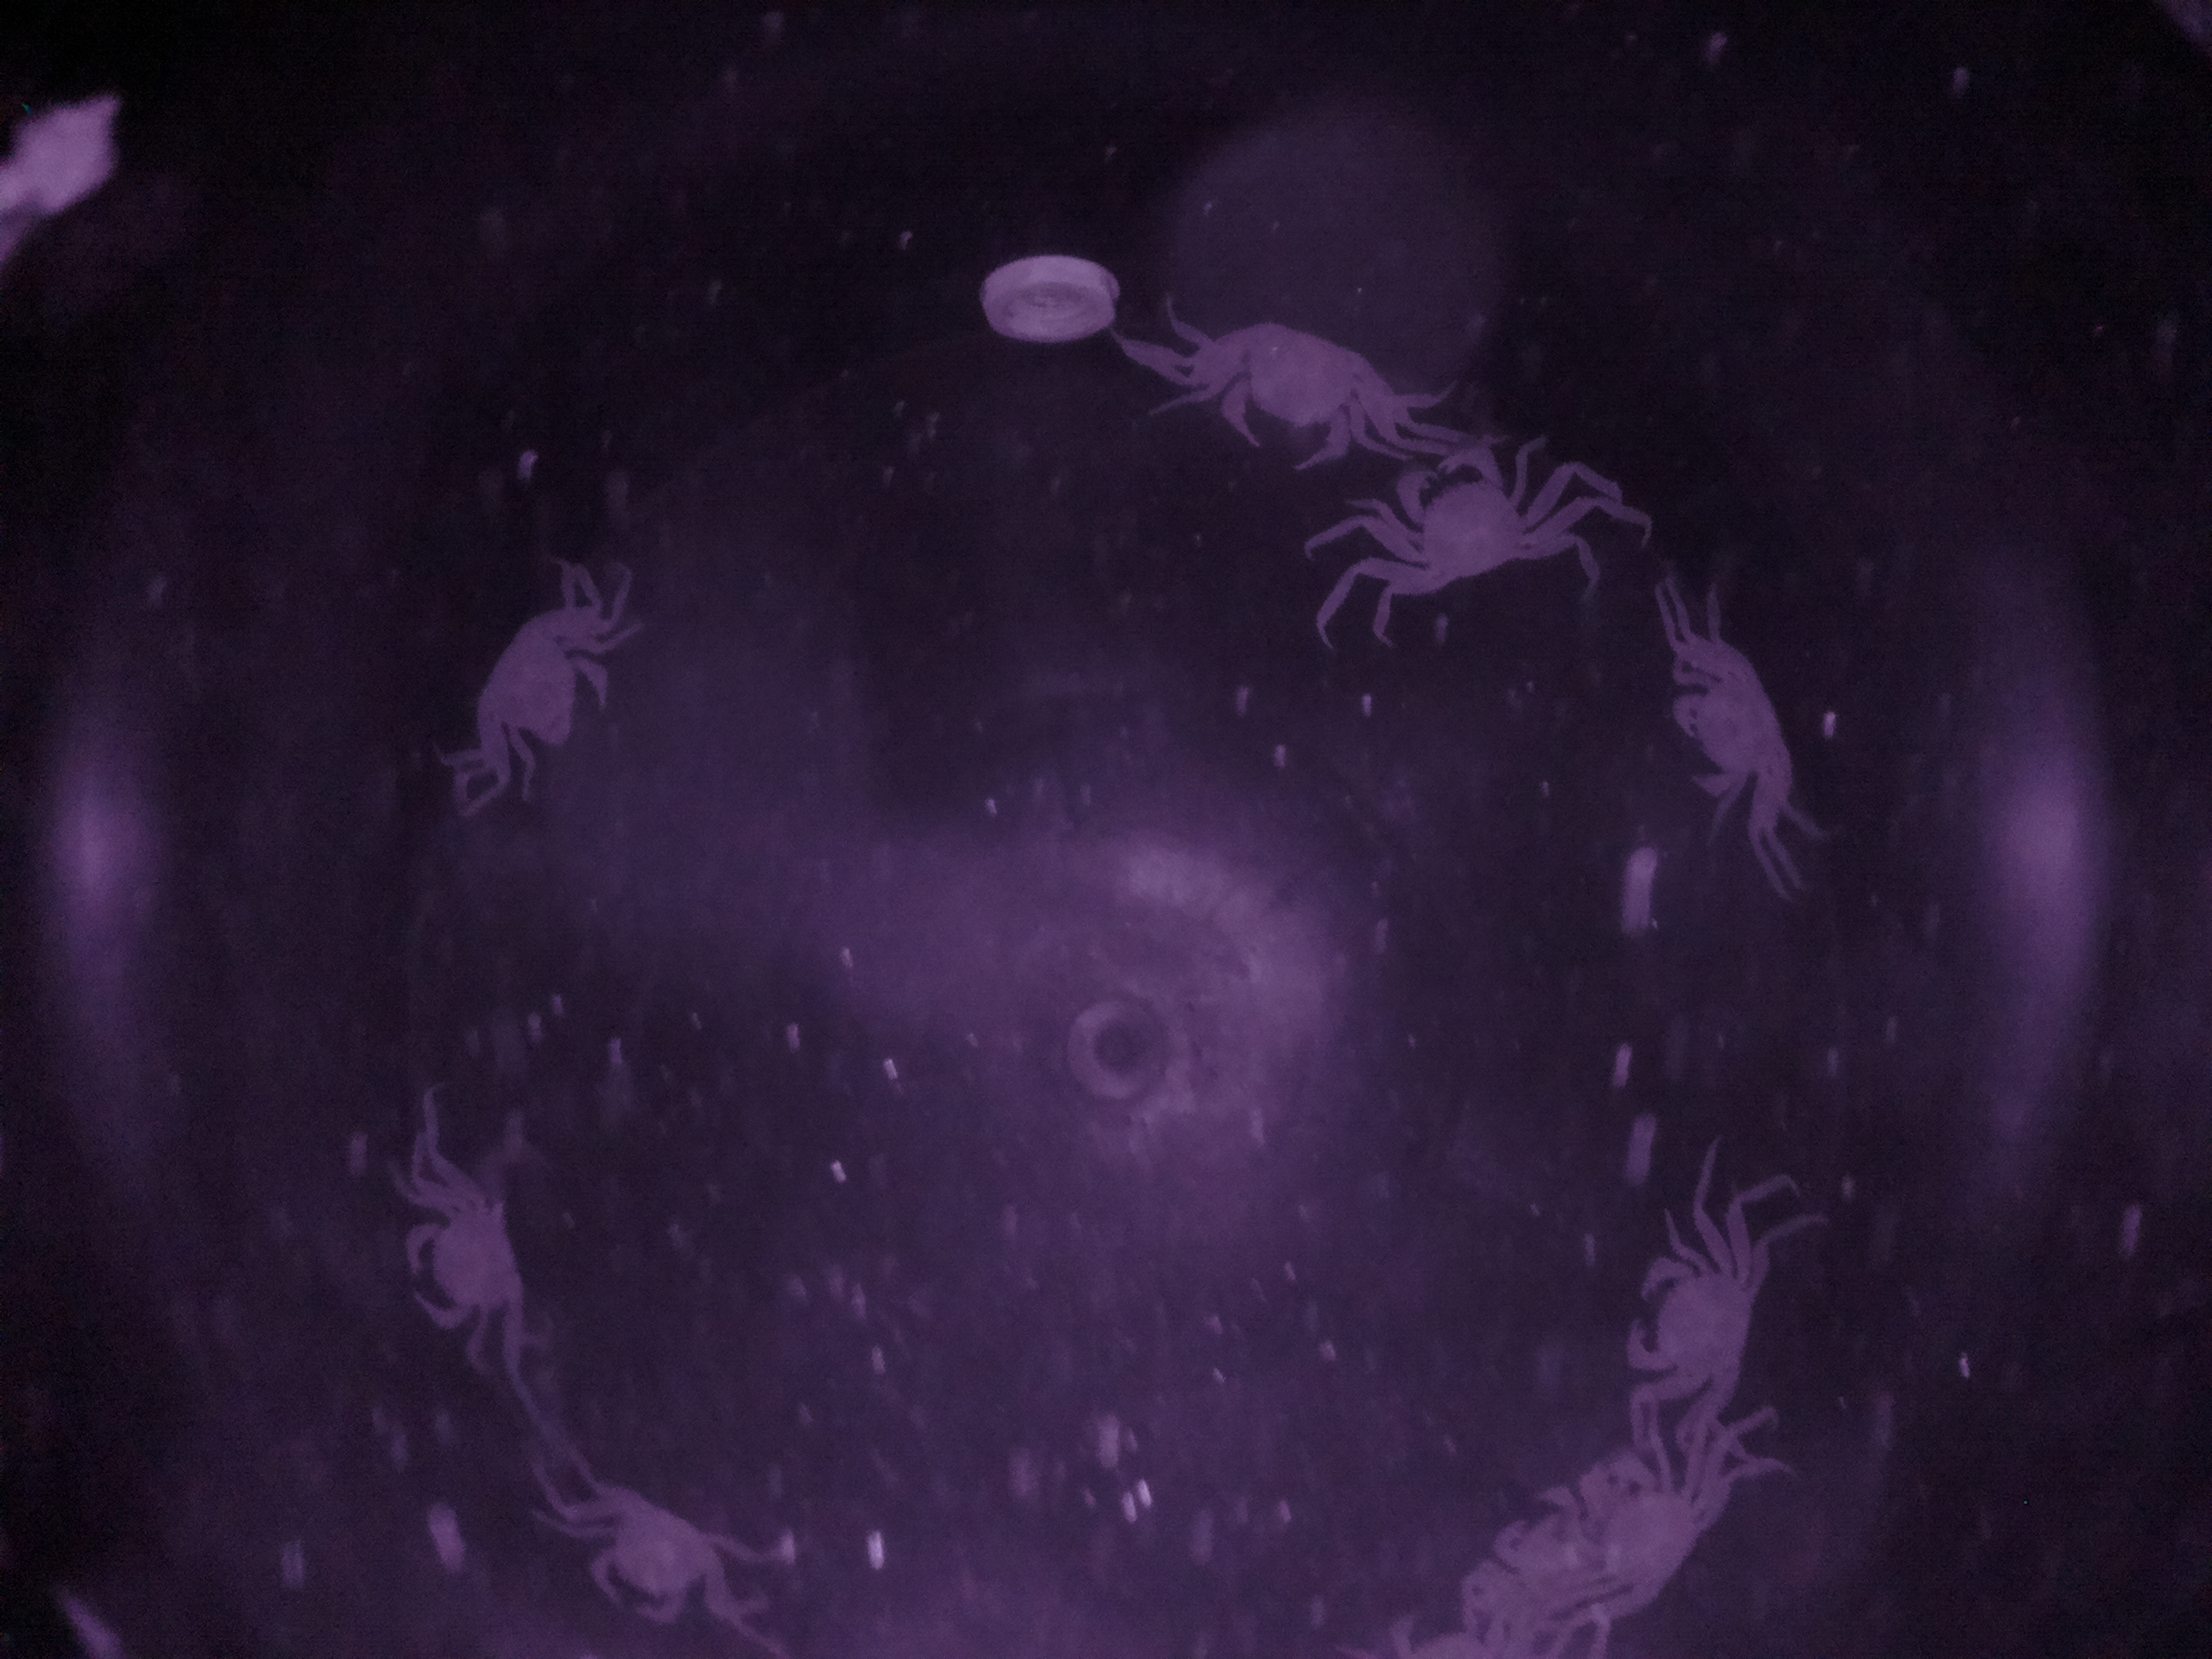Crab: (1184, 317, 1402, 477), (1372, 430, 1554, 608), (1608, 1241, 1777, 1415), (1658, 647, 1822, 824)
